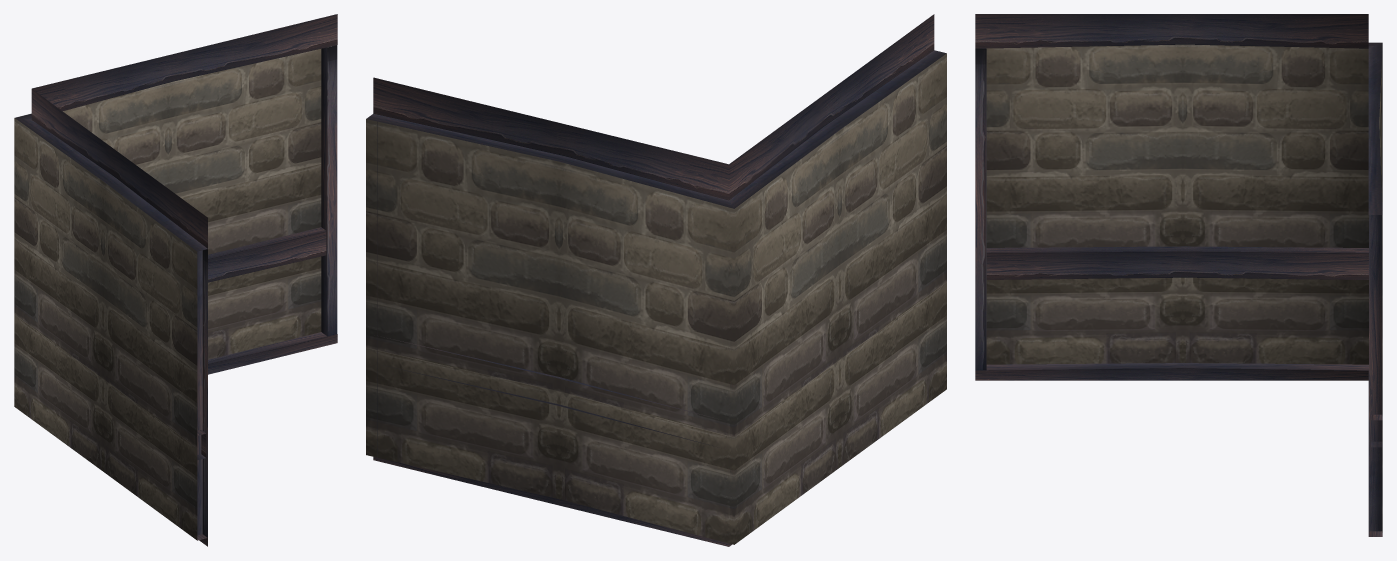
The model's file is WallCorner_1sided_detailed_2ndFloor_Bricks.fbx.
3 views of the same model, side by side, from view 1: azimuth 30°, elevation 25°; view 2: azimuth 150°, elevation 25°; view 3: azimuth 270°, elevation 25° (orthographic). The views are drawn at different scales.
Parts seen in each view (by area): view 1: WallCorner_1sided_detailed_2ndFloor_Bricks; view 2: WallCorner_1sided_detailed_2ndFloor_Bricks; view 3: WallCorner_1sided_detailed_2ndFloor_Bricks.
Part boxes in pixels (x1,y1,x2,y2): WallCorner_1sided_detailed_2ndFloor_Bricks: (14, 14, 337, 546); WallCorner_1sided_detailed_2ndFloor_Bricks: (366, 14, 946, 546); WallCorner_1sided_detailed_2ndFloor_Bricks: (975, 14, 1382, 536).
Bounding box in the file's own units: 0.6508 × 0.6442 × 0.6485.
